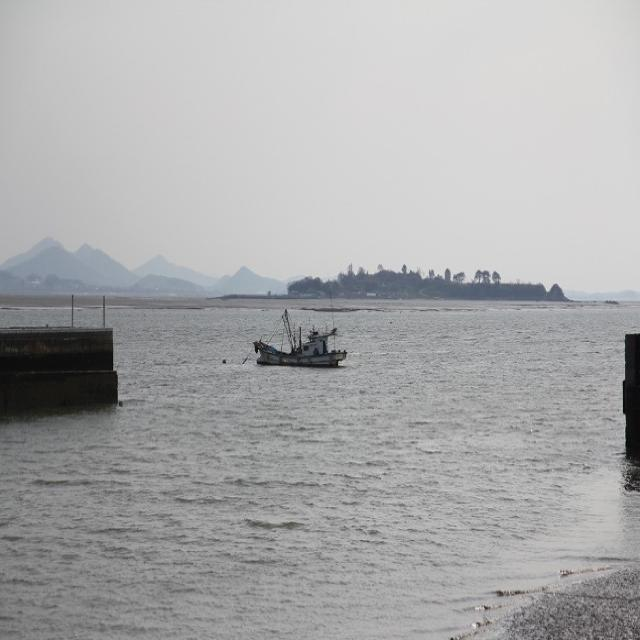fishing boat: (242, 301, 347, 374)
